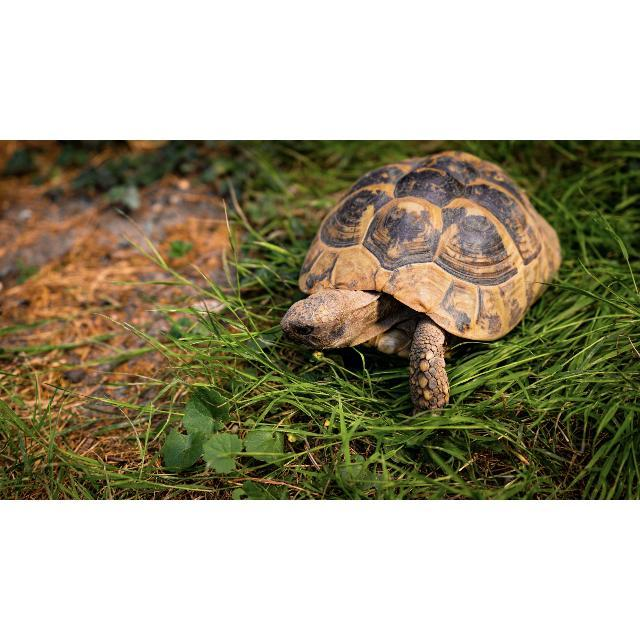turtle: (280, 150, 564, 415)
